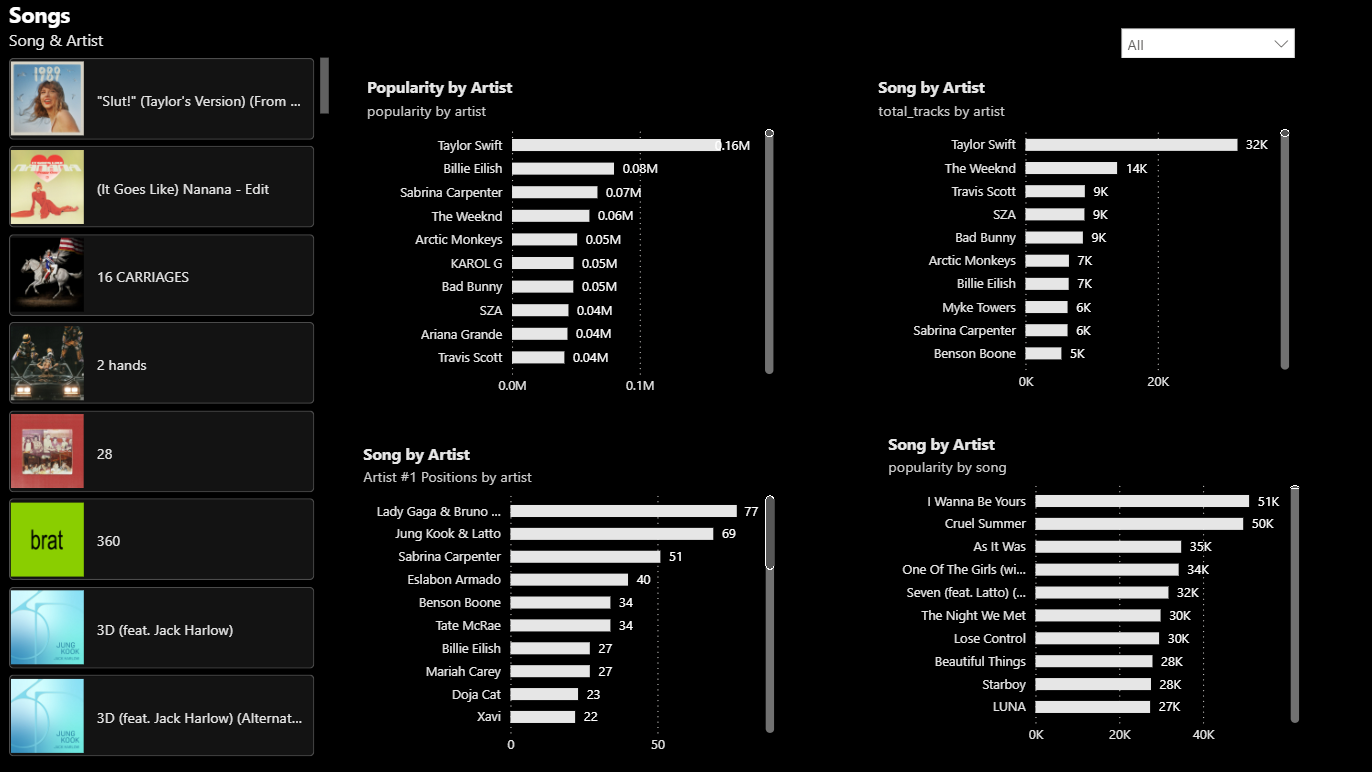

Layout of this report page (visuals, bound fields, positions):
{"tool":"powerbi","page":{"name":"Artists","canvas":[1280,720],"ordinal":2},"visuals":[{"type":"clusteredBarChart","title":"Song by Artist","fields":{"Category":["Top-50-World.artist"],"Y":["Sum(Top-50-World.total_tracks)"]},"box":[813.7,71.4,392.5,301.9],"z":0},{"type":"barChart","title":"Song by Artist","fields":{"Category":["Top-50-World.artist"],"Y":["Measure.Artist #1 Positions"]},"box":[334.8,411.7,392.5,299.1],"z":1000},{"type":"barChart","title":"Popularity by Artist","fields":{"Category":["Top-50-World.artist"],"Y":["Sum(Top-50-World.popularity)"]},"box":[338.9,71.4,388.3,306],"z":2000},{"type":"advancedSlicerVisual","title":"Songs","fields":{"Values":["spotify-top-50-world.song"],"Label":["Min(spotify-top-50-world.album_cover_url)"]},"box":[9.6,0,299.1,710.8],"z":3000},{"type":"barChart","title":"Song by Artist","fields":{"Category":["Top-50-World.song"],"Y":["Sum(Top-50-World.popularity)"]},"box":[823.3,402.1,392.5,299.1],"z":4000},{"type":"slicer","fields":{"Values":["Top-50-World.date.Variation.Date Hierarchy.Year"]},"box":[1034.9,16.3,181.4,44.2],"z":5000}]}

Visuals, with their boxes in screenshot pixels (x1, y1, x2, y2), scaled from the page's 1280x720 canvas onto the 1372x772 screenshot:
"Song by Artist" clusteredBarChart: detection(872, 77, 1293, 400)
"Song by Artist" barChart: detection(359, 441, 780, 762)
"Popularity by Artist" barChart: detection(363, 77, 779, 405)
"Songs" advancedSlicerVisual: detection(10, 0, 331, 762)
"Song by Artist" barChart: detection(882, 431, 1303, 752)
slicer - Top-50-World.date.Variation.Date Hierarchy.Year: detection(1109, 17, 1304, 65)
